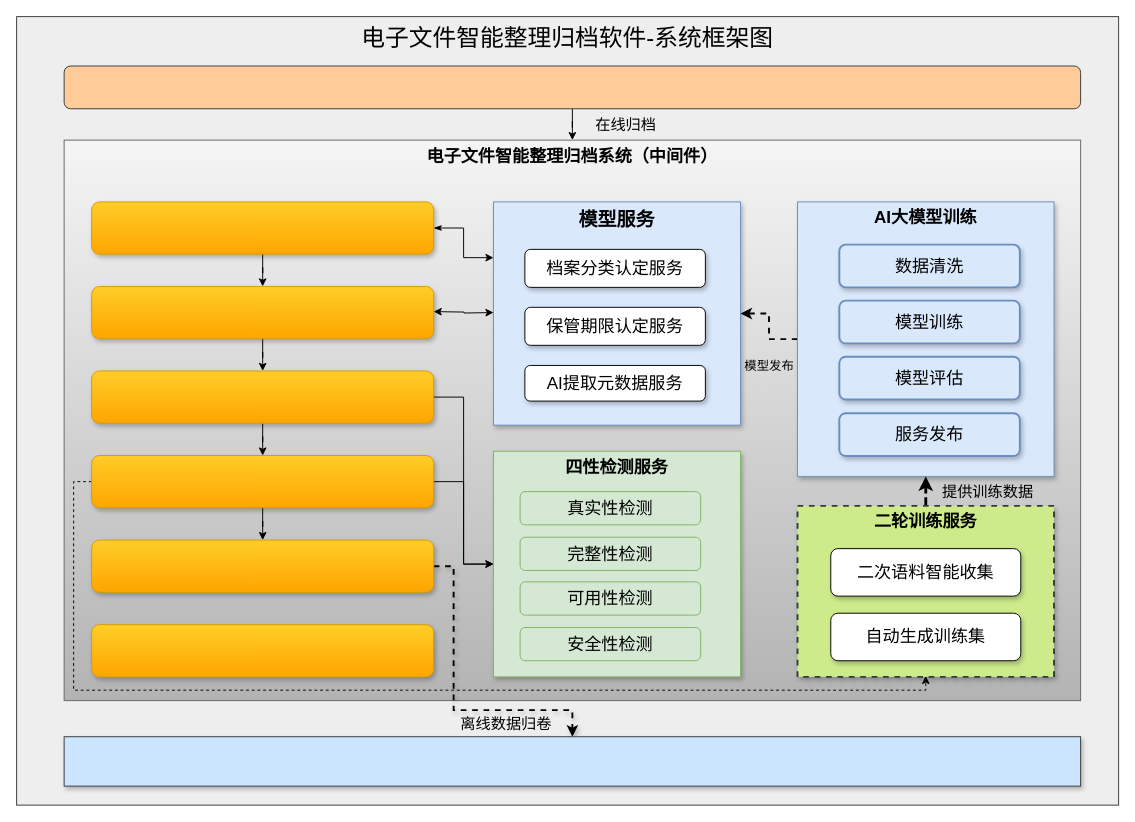
The diagram is 1135 pixels wide and 822 high, and some of its shapes have lost their labels. The shapes that lost their labels are listed below. From the top down, each one's centre as x and y in pixels, then its label:
At point 572,87: "上游业务系统OA、一网通办、财务...".
At point 263,229: "智能接收（捕获、录入、转换）".
At point 263,313: "智能整理（组件、编号、封装）".
At point 263,398: "数据移交（检测、登记、提交）".
At point 263,482: "数据成果（接收检测、接收登记、确认接收）".
At point 263,567: "归档（离线打包-符合归档要求数据包）".
At point 263,652: "系统管理".
At point 572,762: "各单位综合档案管理系统".
